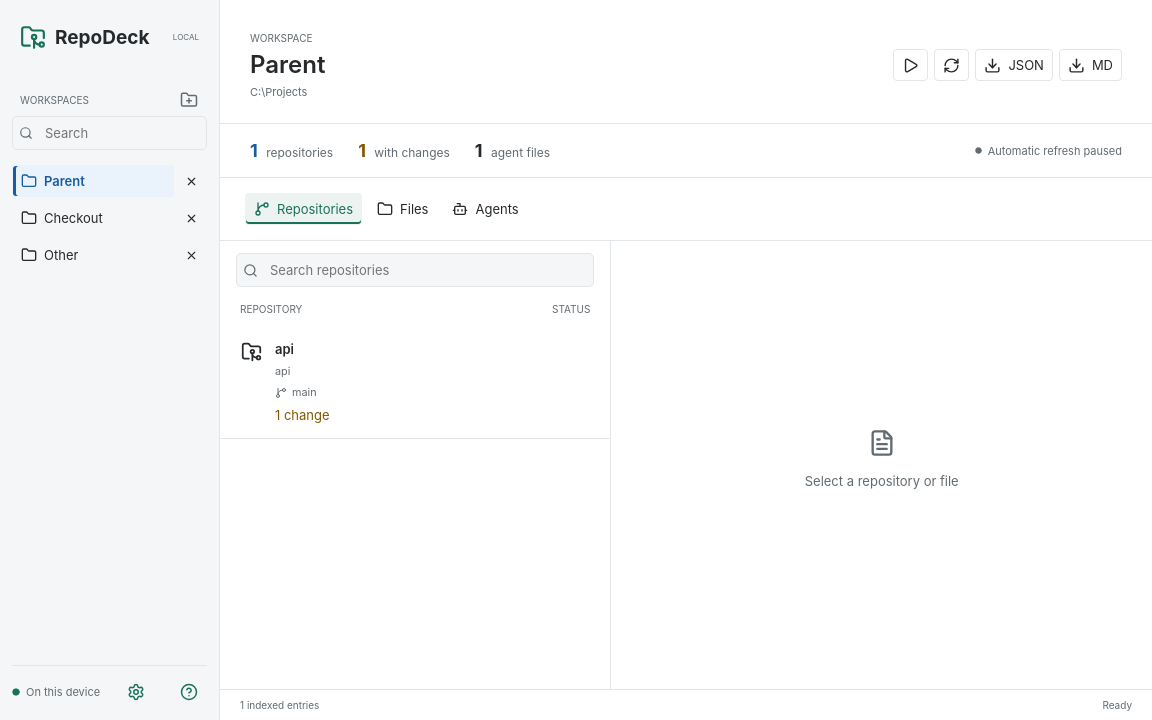
Workspace experience › retains alias drafts across tabs
Click the button "api api main 1 change" at (302, 415), box x1=220 y1=325 x2=610 y2=439
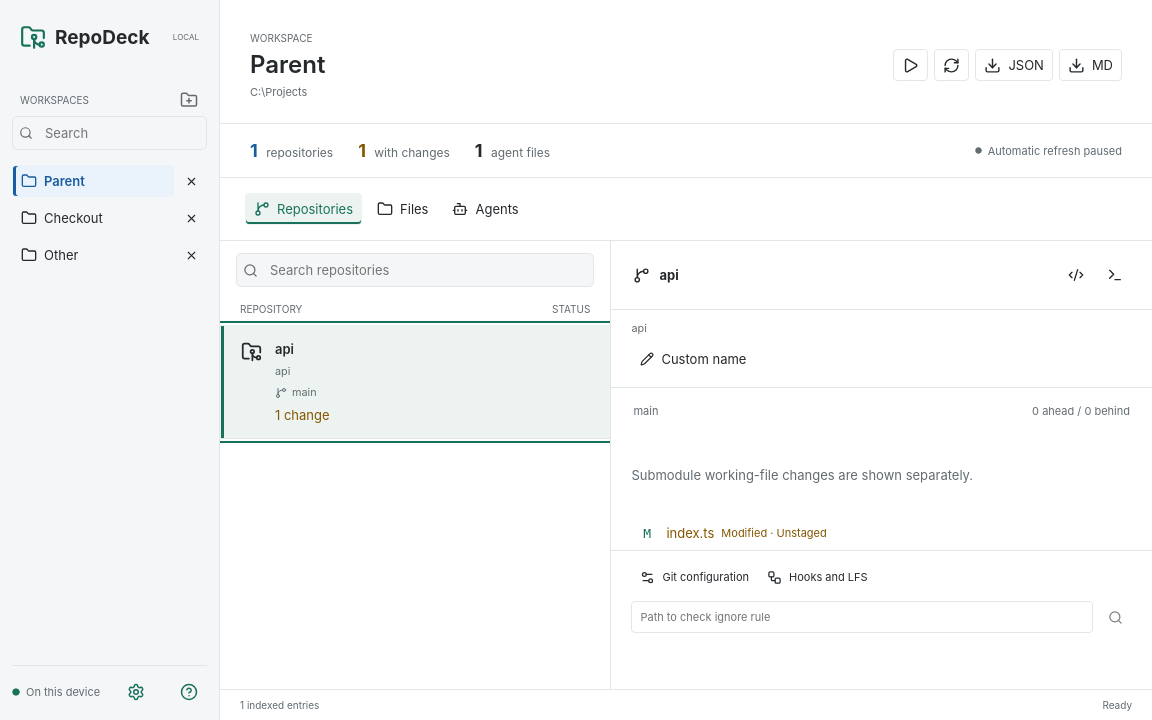
Click the button with aria-label "Edit custom name" at (693, 359), box x1=631 y1=343 x2=755 y2=375
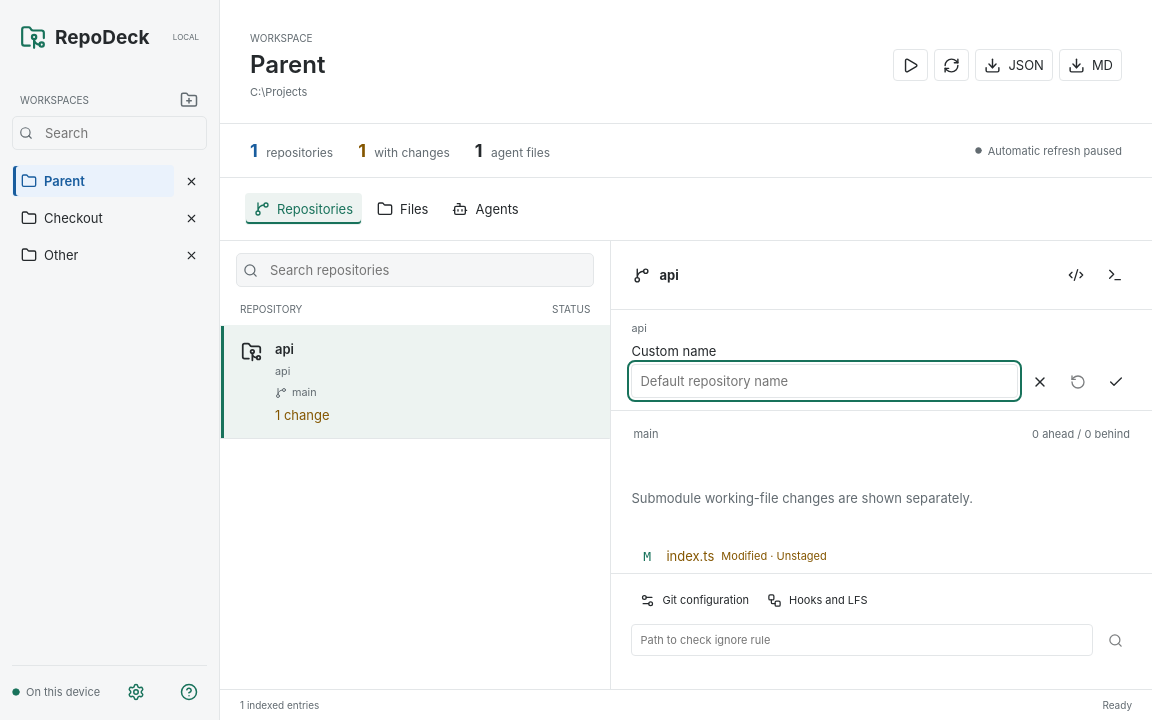
Type "Payments" into the field labelled "Custom name" at (825, 381), box x1=631 y1=364 x2=1018 y2=398
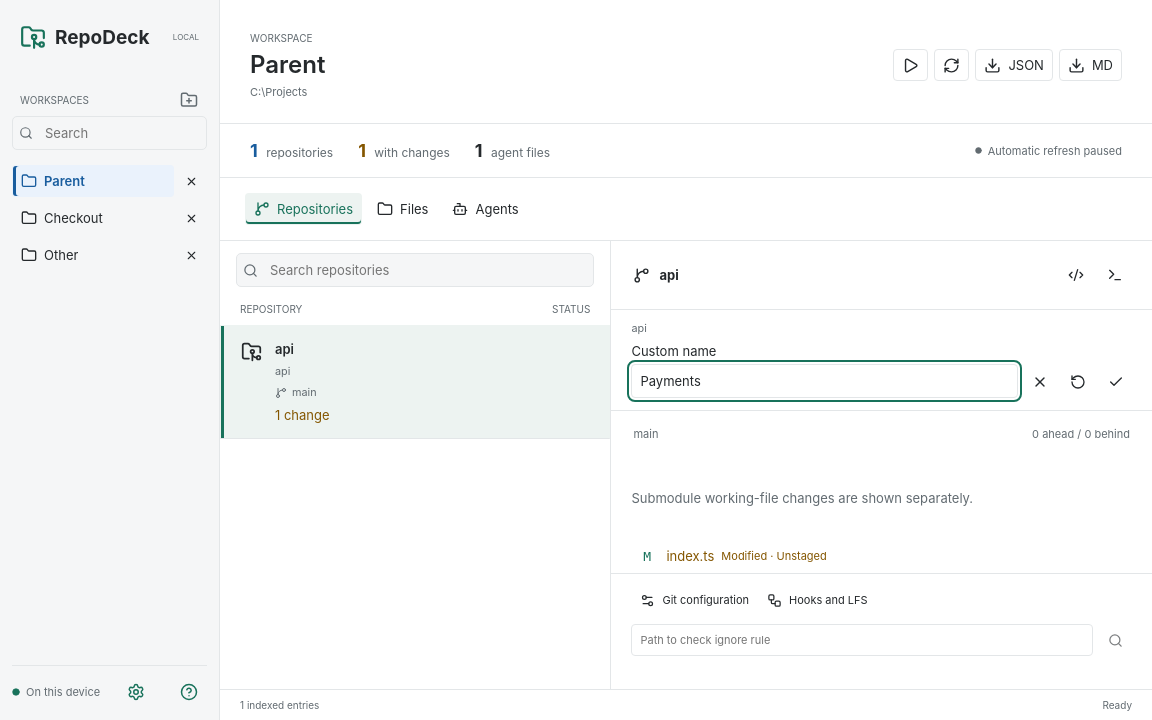
Click the tab "Files" at (403, 209), box x1=368 y1=193 x2=438 y2=225
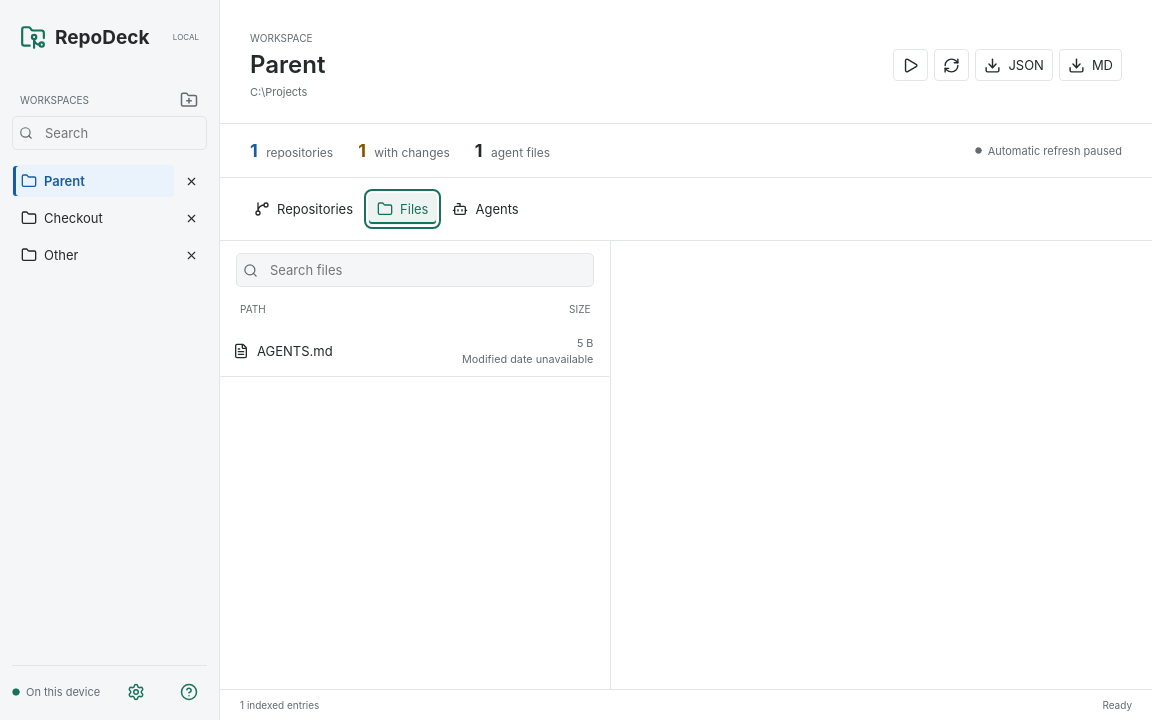
Click the tab "Repositories" at (304, 209), box x1=245 y1=193 x2=362 y2=225
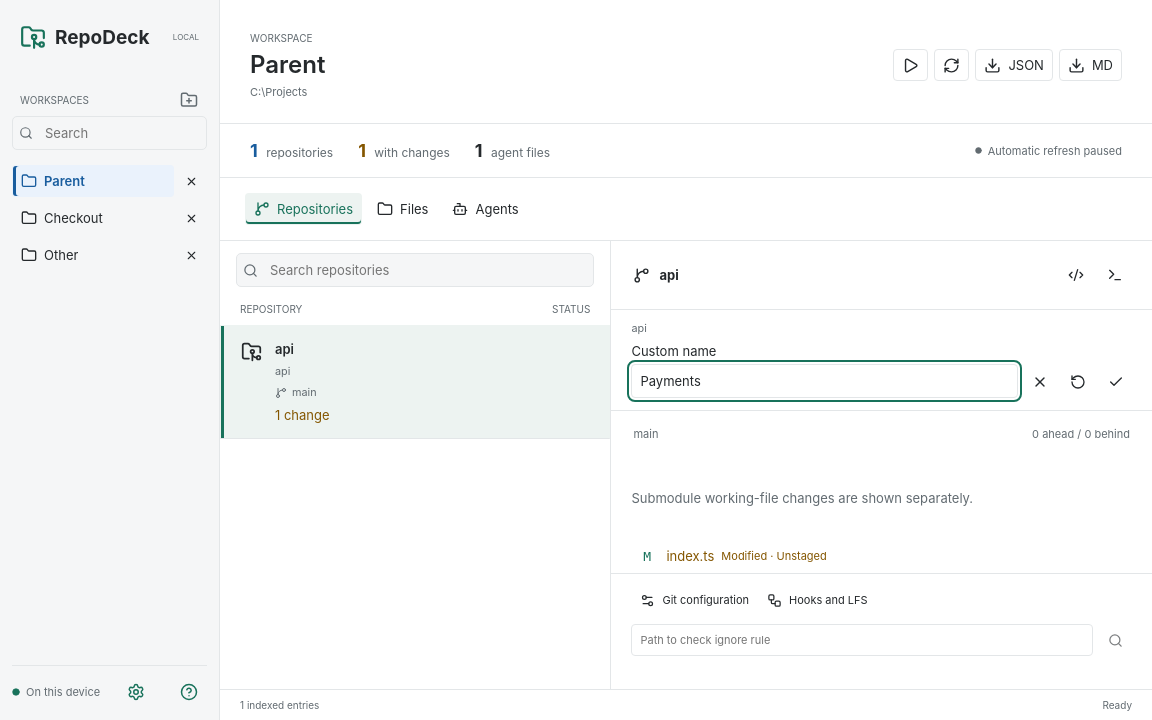
Expected: the field labelled "Custom name" holds "Payments", x1=631 y1=364 x2=1018 y2=398
